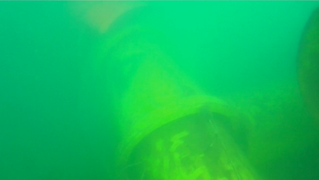4: (113, 51, 143, 98)
leak: (77, 1, 124, 28)
pipe: (89, 24, 263, 179), (219, 82, 319, 166), (295, 6, 319, 127)
